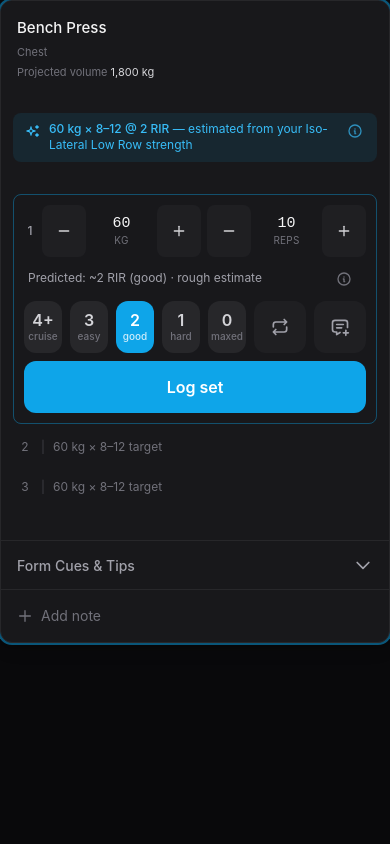
ExerciseCard › Live effort warning (SuggestionBanner) › softens the copy when the e1RM is transferred from another lift (no own history)
The image size is (390, 844).
Click the button named "Increase reps": [344, 230] box [322,204,366,256]
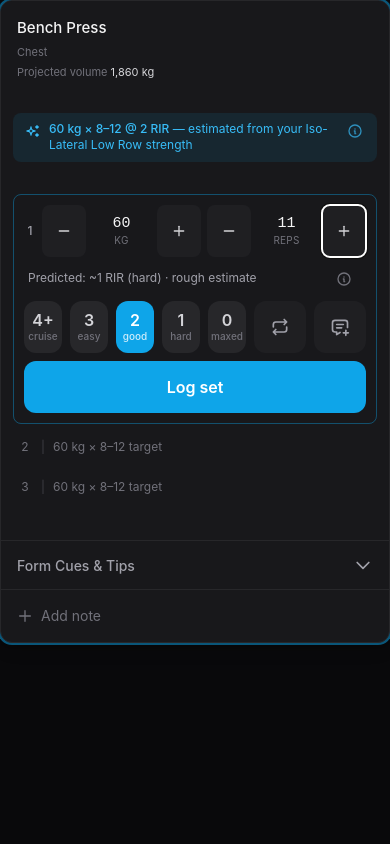
Click the button named "Increase reps": [344, 230] box [322,204,366,256]
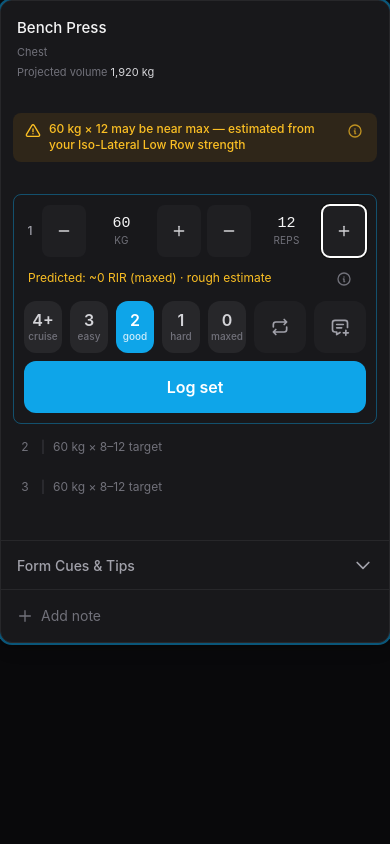
Check: the text with test id "effort-warning" reads "60 kg × 12 may be near max — estimated from your Iso-Lateral Low Row strength", box [49,120,315,152]
